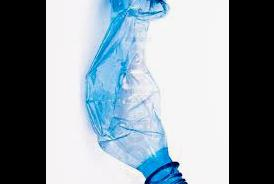Plastic: (80, 0, 196, 183)
